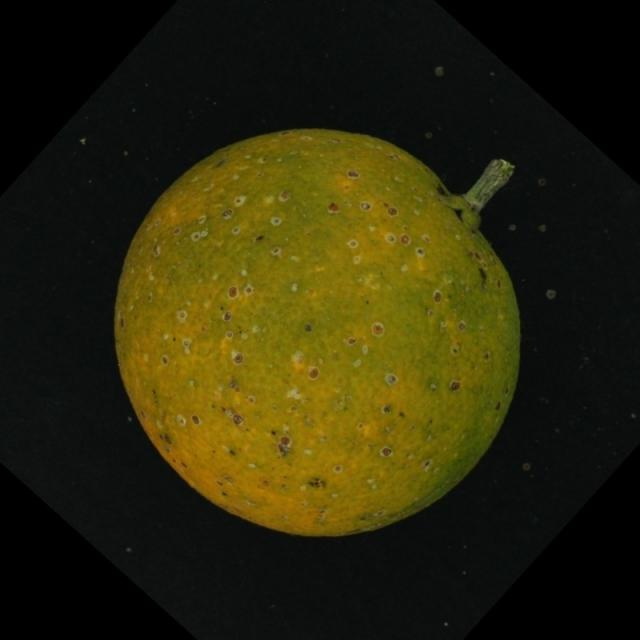grenning: (92, 108, 535, 555)
